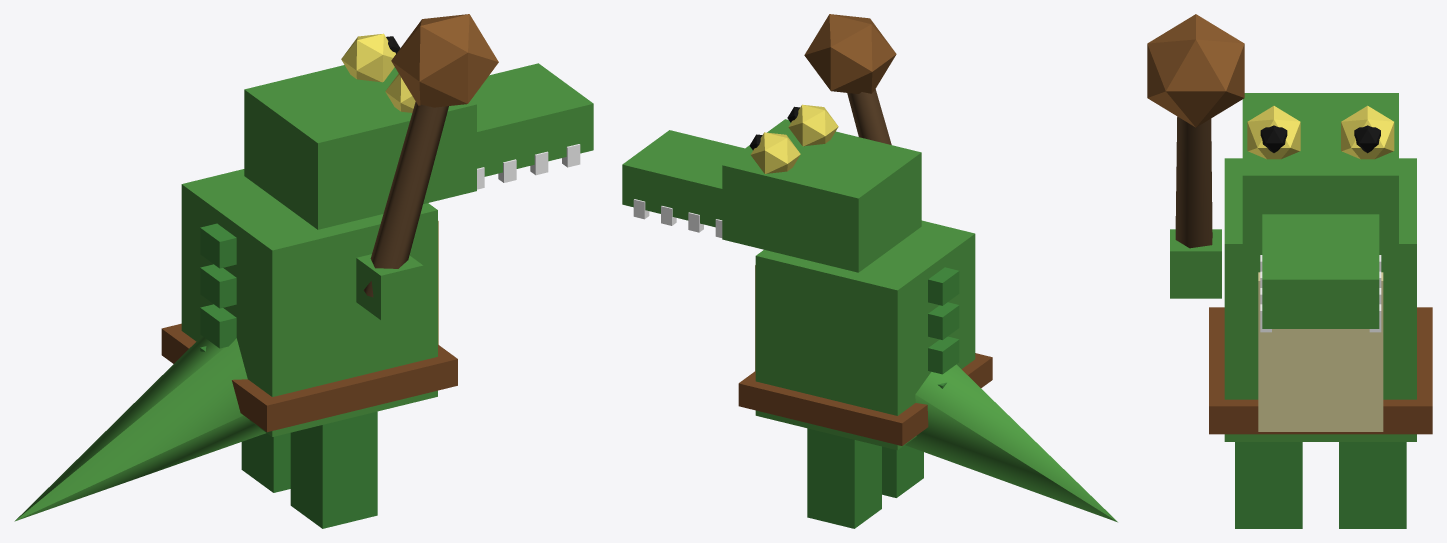
Rendered from level1.glb.
3 views of the same model, side by side, from view 1: azimuth 30°, elevation 25°; view 2: azimuth 150°, elevation 25°; view 3: azimuth 270°, elevation 25° (orthographic). The views are drawn at different scales.
Visible parts, largest first — view 1: object 3, object 10, arm, object 24, object 11, object 5, object 2, object 1, object 12, object 6, object 7, object 8 (+1 smaller); view 2: object 3, object 10, object 24, object 11, arm, object 5, object 1, object 2, object 12, object 14, object 6, object 8 (+1 smaller); view 3: object 10, arm, object 3, object 11, object 4, object 5, object 1, object 2, object 12, object 14, object 15, object 13.
Boxes of the visible parts, x1=… form: object 3: x1=181, y1=169, x2=437, y2=436; object 10: x1=244, y1=65, x2=476, y2=229; arm: x1=356, y1=14, x2=498, y2=319; object 24: x1=14, y1=336, x2=265, y2=521; object 11: x1=471, y1=63, x2=593, y2=176; object 5: x1=161, y1=323, x2=457, y2=432; object 2: x1=290, y1=411, x2=377, y2=528; object 1: x1=241, y1=432, x2=290, y2=492; object 12: x1=341, y1=33, x2=395, y2=82; object 6: x1=200, y1=223, x2=236, y2=268; object 7: x1=200, y1=264, x2=236, y2=308; object 8: x1=200, y1=304, x2=236, y2=348; object 3: x1=755, y1=220, x2=975, y2=450; object 10: x1=722, y1=119, x2=921, y2=272; object 24: x1=905, y1=364, x2=1117, y2=522; object 11: x1=622, y1=130, x2=744, y2=227; arm: x1=804, y1=14, x2=896, y2=144; object 5: x1=738, y1=353, x2=992, y2=445; object 1: x1=807, y1=428, x2=881, y2=528; object 2: x1=882, y1=445, x2=923, y2=497; object 12: x1=750, y1=132, x2=800, y2=173; object 14: x1=788, y1=104, x2=838, y2=146; object 6: x1=928, y1=267, x2=959, y2=305; object 8: x1=928, y1=336, x2=959, y2=374; object 10: x1=1242, y1=93, x2=1398, y2=267; arm: x1=1147, y1=14, x2=1244, y2=298; object 3: x1=1224, y1=158, x2=1416, y2=441; object 11: x1=1262, y1=214, x2=1379, y2=328; object 4: x1=1258, y1=272, x2=1383, y2=431; object 5: x1=1209, y1=307, x2=1432, y2=434; object 1: x1=1339, y1=442, x2=1406, y2=528; object 2: x1=1235, y1=442, x2=1302, y2=528; object 12: x1=1341, y1=105, x2=1394, y2=159; object 14: x1=1247, y1=106, x2=1300, y2=159; object 15: x1=1260, y1=125, x2=1287, y2=152; object 13: x1=1354, y1=125, x2=1380, y2=153.
Bounding box in the file's own units: 1.3 × 1.12 × 0.5486.
